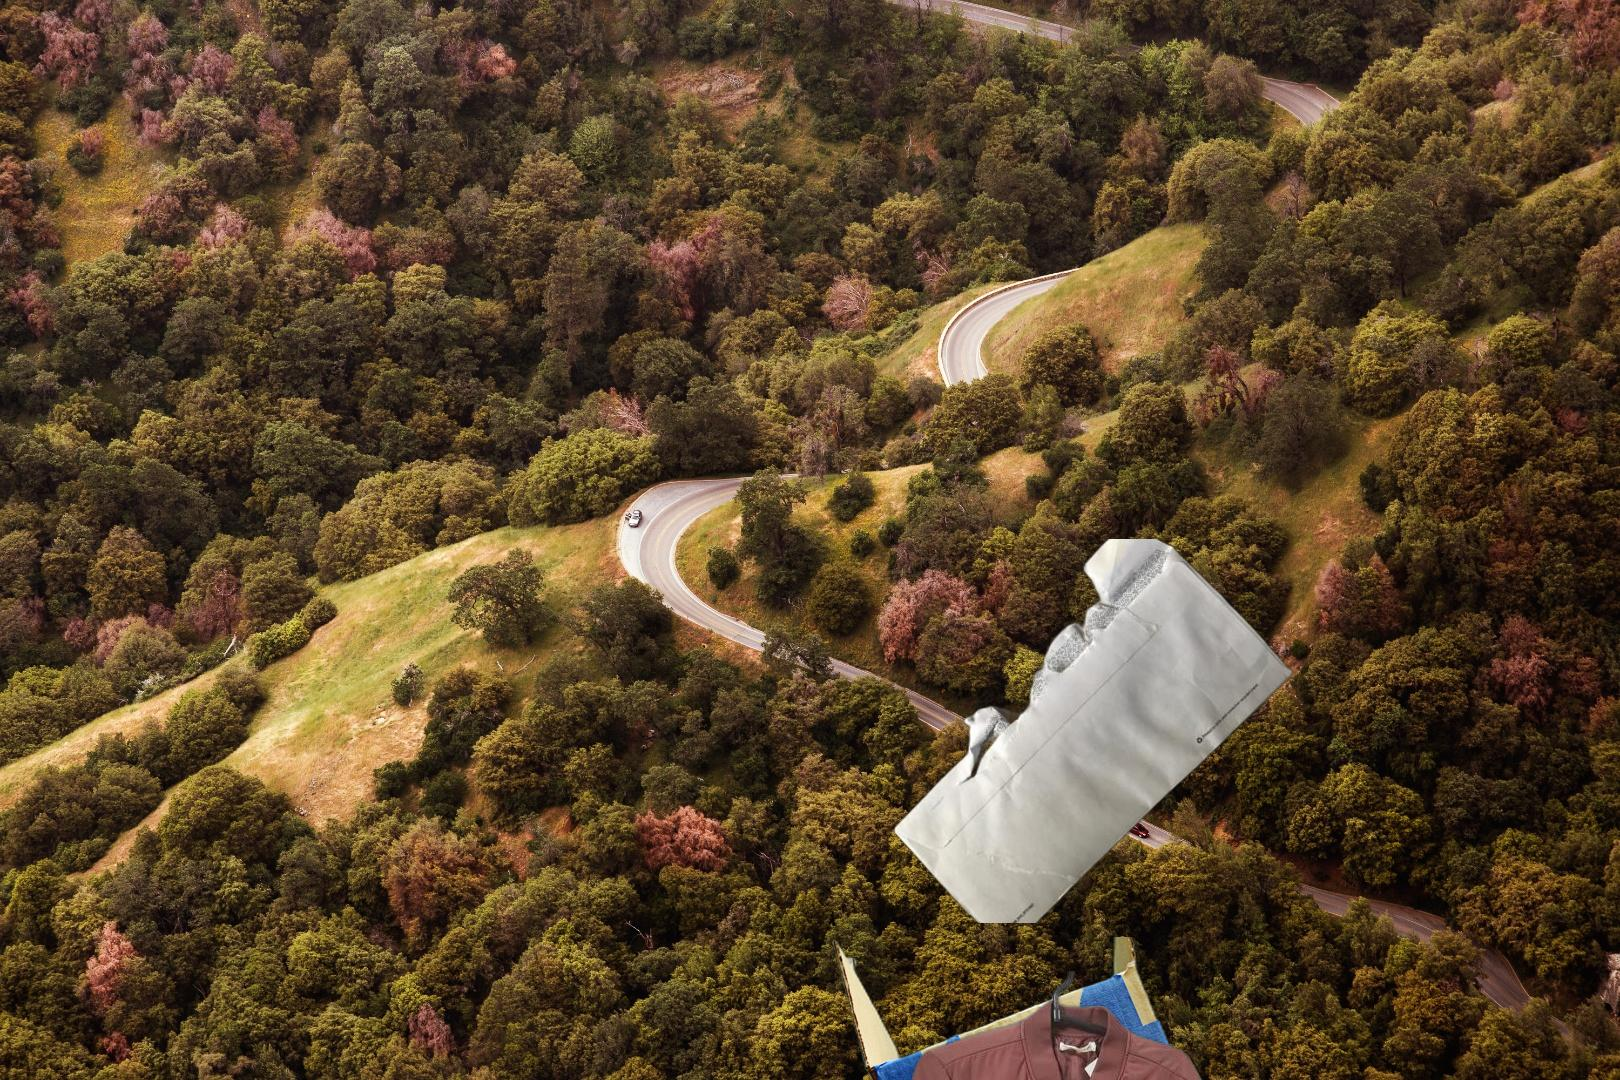clothes: (869, 972, 1245, 1080)
paper: (890, 539, 1298, 923)
trashbox-cardboard: (827, 937, 1256, 1080)
